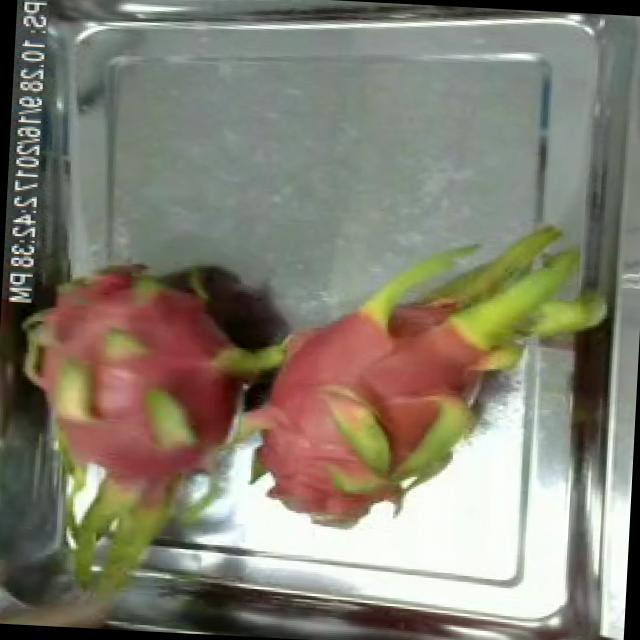Fruit: (226, 358, 412, 542)
